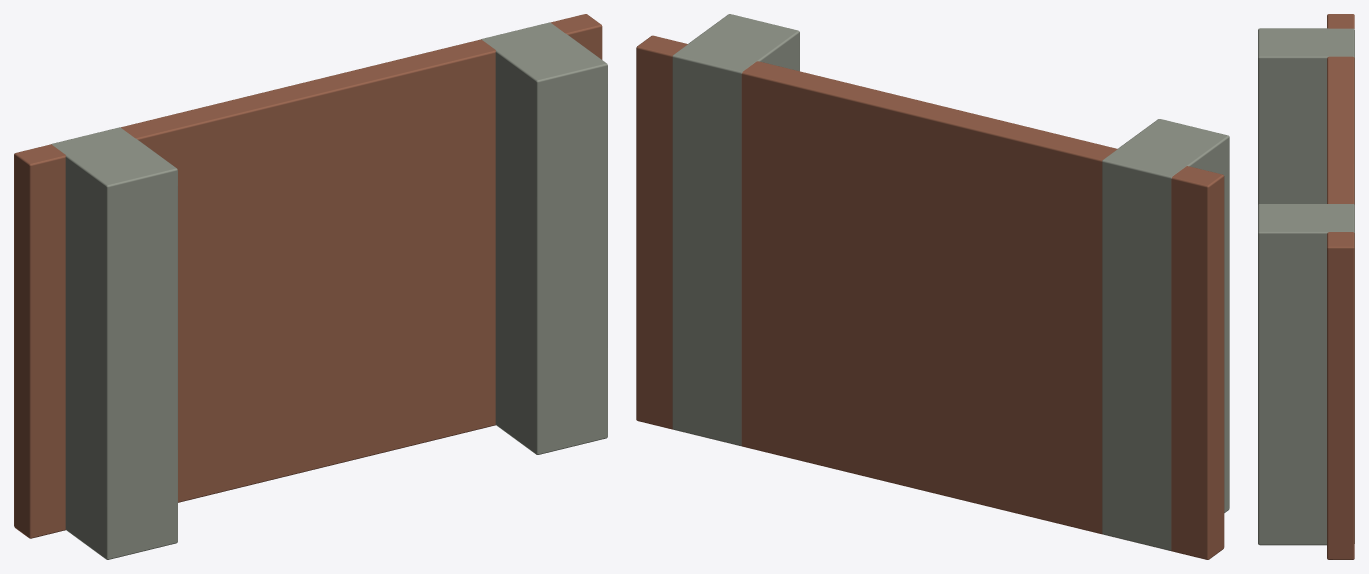
File: undercity-sewers-and-thieves-den-buttressed-wall-bc99e042__25019.glb
3 views of the same model, side by side, from view 1: azimuth 30°, elevation 25°; view 2: azimuth 150°, elevation 25°; view 3: azimuth 270°, elevation 25° (orthographic). The views are drawn at different scales.
Parts seen in each view (by area): view 1: buttressed-wall; view 2: buttressed-wall; view 3: buttressed-wall.
Part boxes in pixels (bbox=[...]): buttressed-wall: bbox=[14, 14, 607, 559]; buttressed-wall: bbox=[636, 14, 1229, 559]; buttressed-wall: bbox=[1258, 14, 1354, 559].
Size of the model in its own units: 4 by 2.5 by 0.6999.
